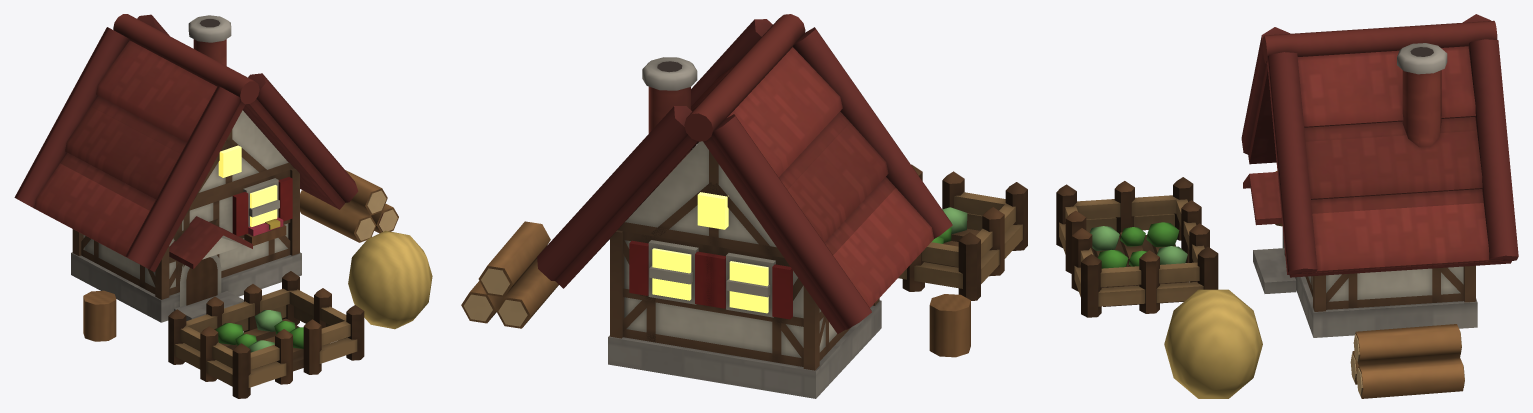
Rendered from homestead_red.glb.
3 views of the same model, side by side, from view 1: azimuth 30°, elevation 25°; view 2: azimuth 150°, elevation 25°; view 3: azimuth 270°, elevation 25° (orthographic). The views are drawn at different scales.
Visible parts, largest first — view 1: homestead_red; view 2: homestead_red; view 3: homestead_red.
Part boxes in pixels (box(x1,y1,x2,y2)): homestead_red: box(14, 14, 432, 398); homestead_red: box(461, 14, 1027, 398); homestead_red: box(1056, 14, 1518, 398).
Bounding box in the file's own units: 0.6598 × 0.4712 × 0.6666.
Materials: 2 (1 with a texture image).
